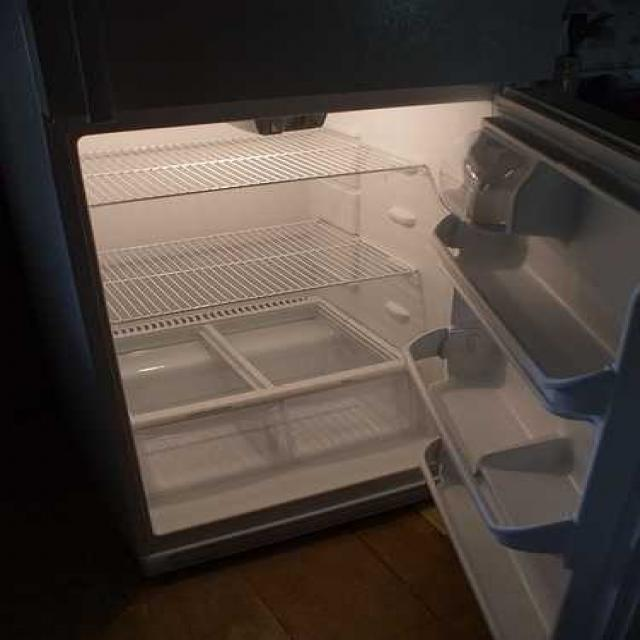refrigerator: (71, 116, 640, 561)
